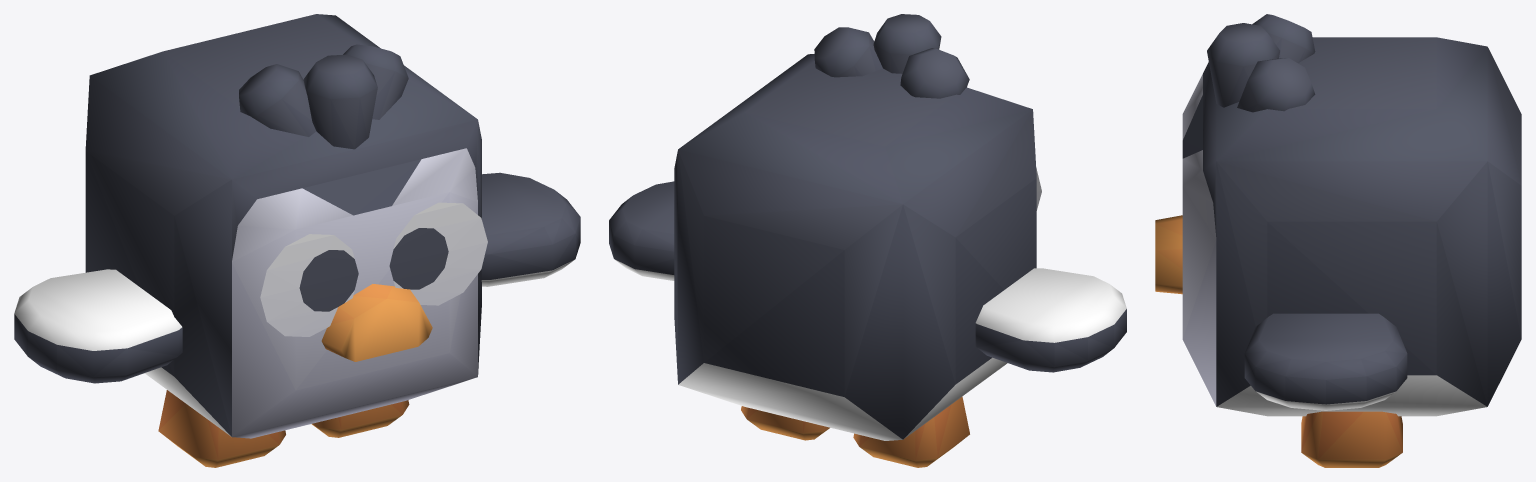
The model's file is animal-penguin.obj.
3 views of the same model, side by side, from view 1: azimuth 30°, elevation 25°; view 2: azimuth 150°, elevation 25°; view 3: azimuth 270°, elevation 25° (orthographic). The views are drawn at different scales.
Bounding box in the file's own units: 2.19 × 1.59 × 1.35.
